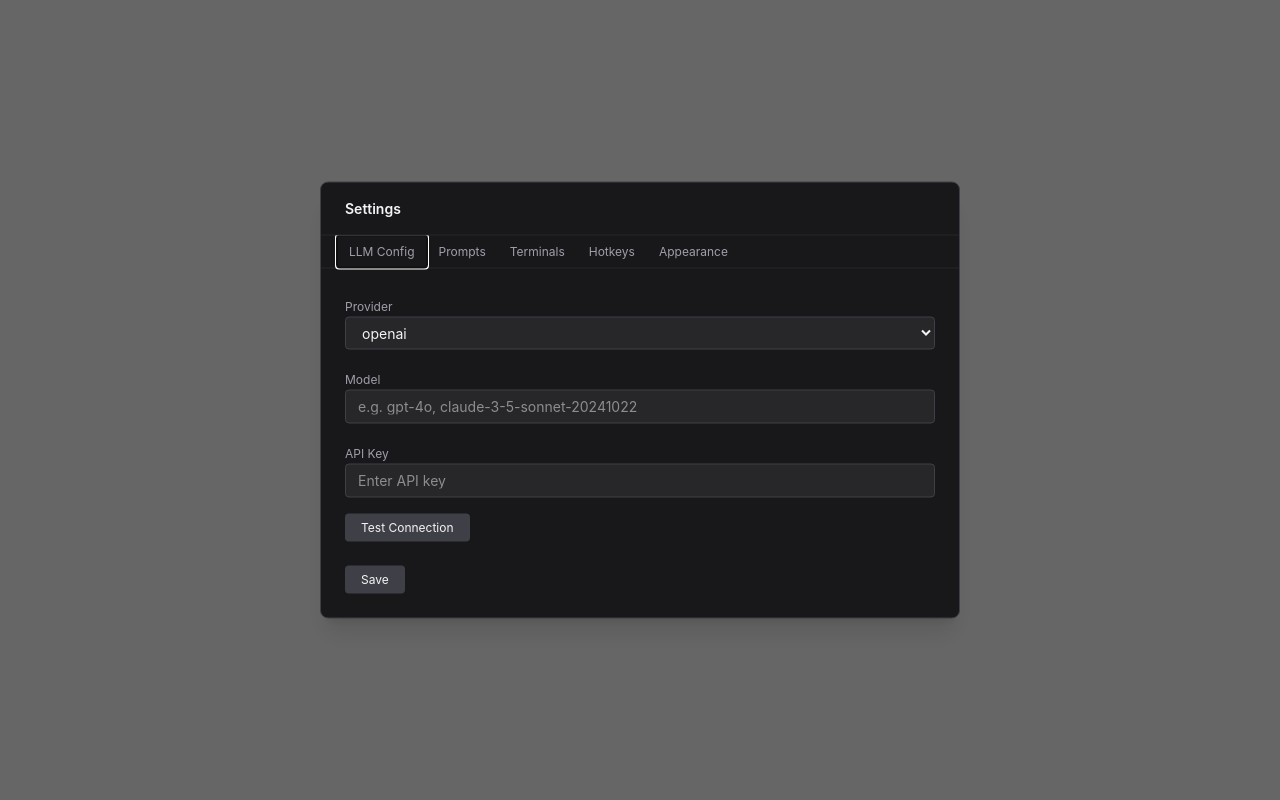
Test: SettingsDialog › clicking Appearance tab shows theme buttons
The image size is (1280, 800).
Click the tab "Appearance": (693,252) [647,236,740,268]
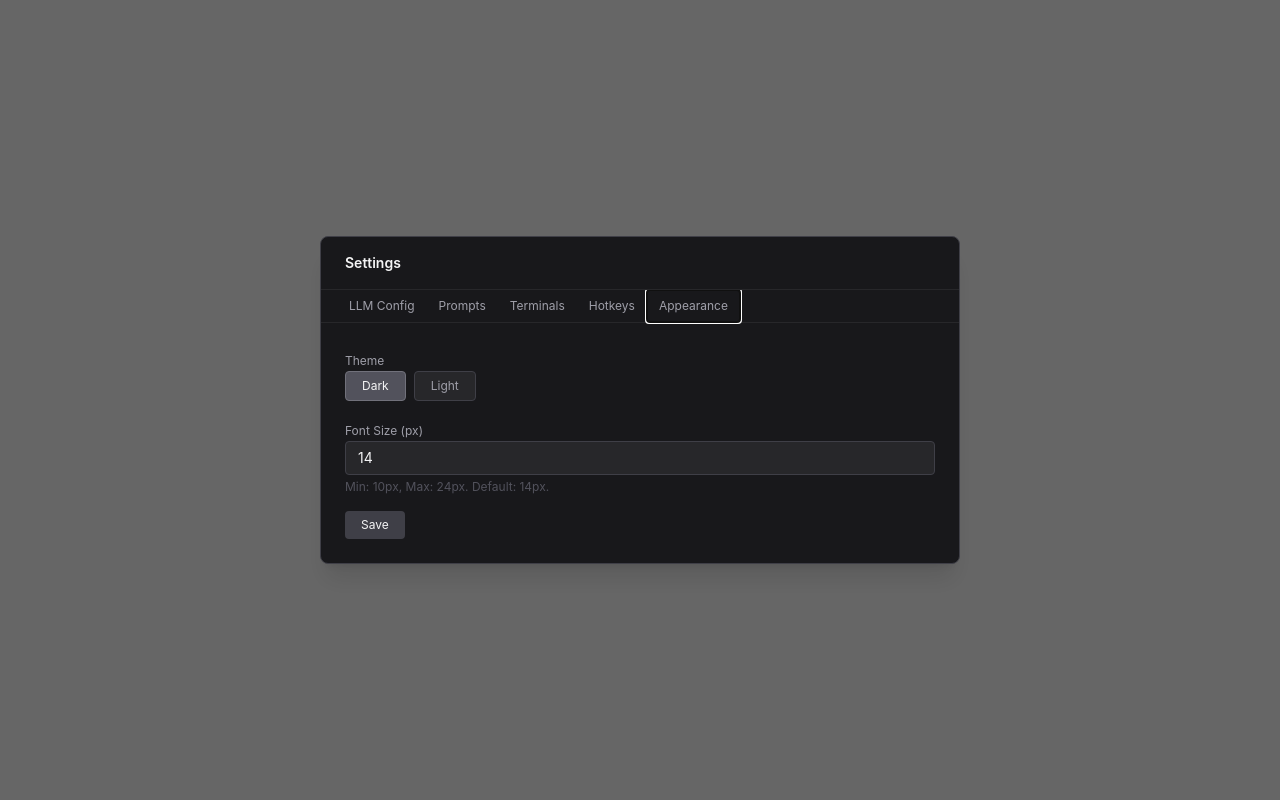
Now the button "Dark" is shown, box [345,371,406,401]
Now the button "Light" is shown, box [414,371,476,401]
